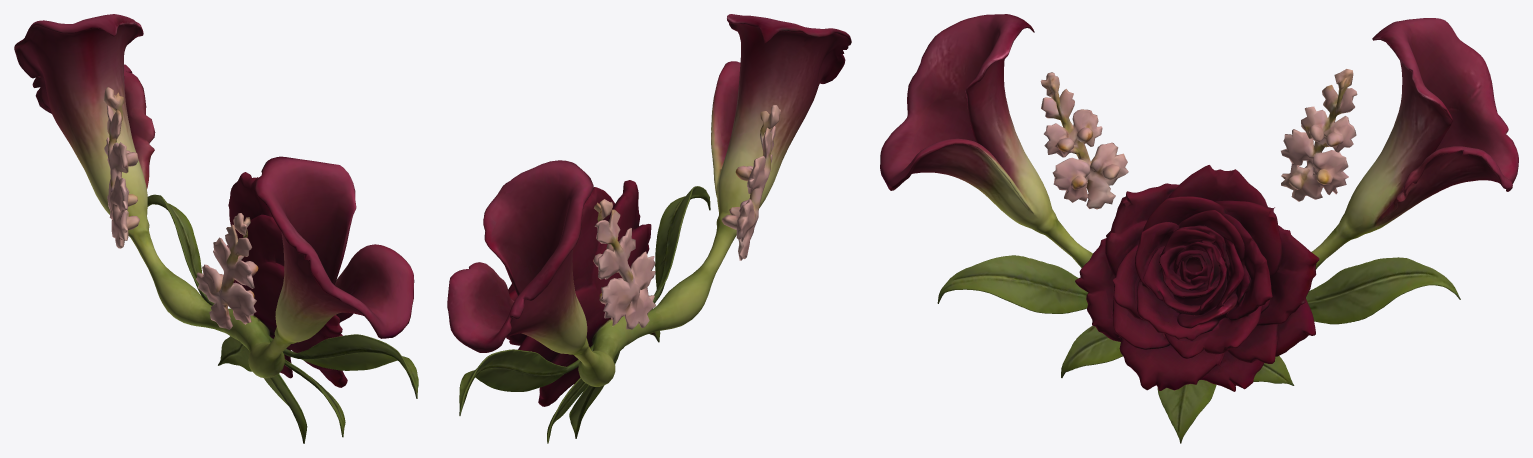
File: floral.glb
The picture shows the model from 3 angles, left to right: view 1: azimuth 30°, elevation 25°; view 2: azimuth 150°, elevation 25°; view 3: azimuth 270°, elevation 25°; orthographic projection. The views are drawn at different scales.
Visible parts, largest first — view 1: tripo_node_ac19342e-9054-460c-9961-c93dd3b8cce7; view 2: tripo_node_ac19342e-9054-460c-9961-c93dd3b8cce7; view 3: tripo_node_ac19342e-9054-460c-9961-c93dd3b8cce7.
Part boxes in pixels (left/top/right/bottom): tripo_node_ac19342e-9054-460c-9961-c93dd3b8cce7: left=14, top=14, right=418, bottom=443; tripo_node_ac19342e-9054-460c-9961-c93dd3b8cce7: left=447, top=14, right=851, bottom=443; tripo_node_ac19342e-9054-460c-9961-c93dd3b8cce7: left=880, top=14, right=1518, bottom=443.
Size of the model in its own units: 0.3416 by 0.6401 by 1.
1 material, 1 textured.
